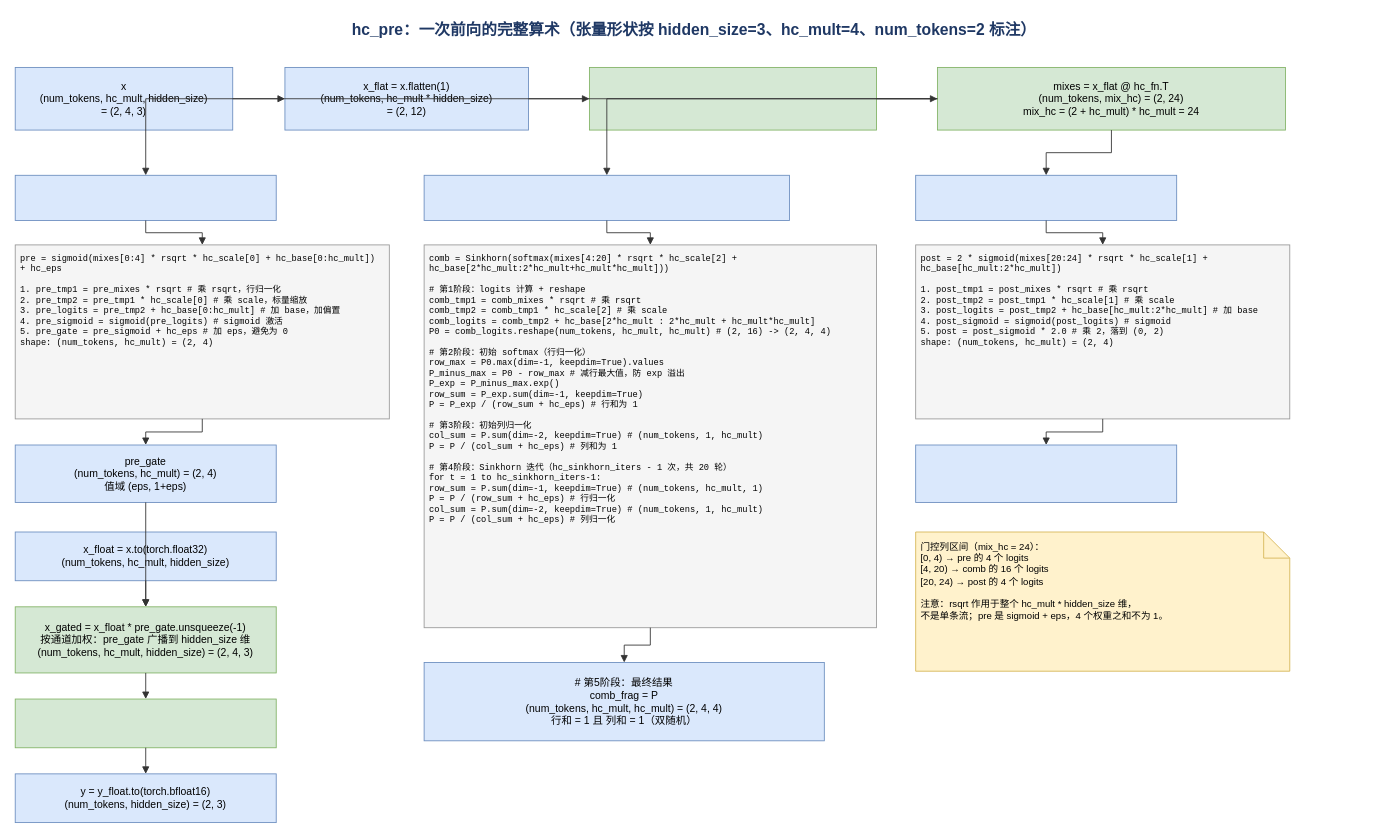
This 1388x838 diagram has some shape labels left out. The box of each missing label's shape, as (x1, y1, x2, y2) in pixels:
comb_mixes (num_tokens, hc_mult*hc_mult) = (2, 16): (423, 174, 790, 221)
InvRMS 归一化 rsqrt = 1 / sqrt(mean(x²) + norm_eps) (num_tokens, 1) = (2, 1): (589, 67, 877, 130)
post (num_tokens, hc_mult) = (2, 4) 值域 (0, 2): (915, 444, 1177, 502)
post_mixes (num_tokens, hc_mult) = (2, 4): (915, 174, 1177, 221)
pre_mixes (num_tokens, hc_mult) = (2, 4): (14, 174, 276, 221)
y_float = x_gated.sum(dim=1) (num_tokens, hidden_size) = (2, 3): (14, 698, 276, 748)
